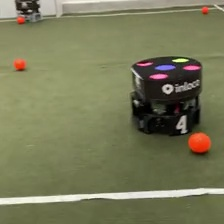ball: (187, 130, 211, 154), (12, 56, 26, 71), (200, 4, 209, 14), (16, 15, 25, 24)
goal: (1, 1, 64, 21)
robot: (128, 53, 204, 137), (14, 1, 42, 23)
